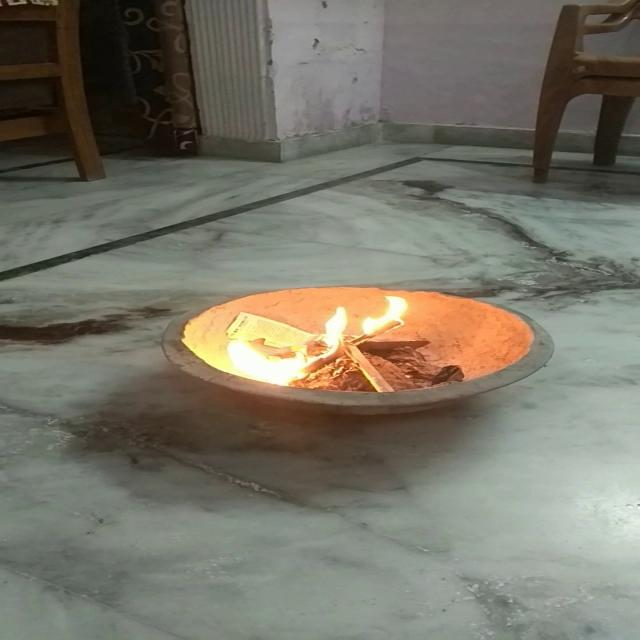fire: (221, 295, 417, 389)
